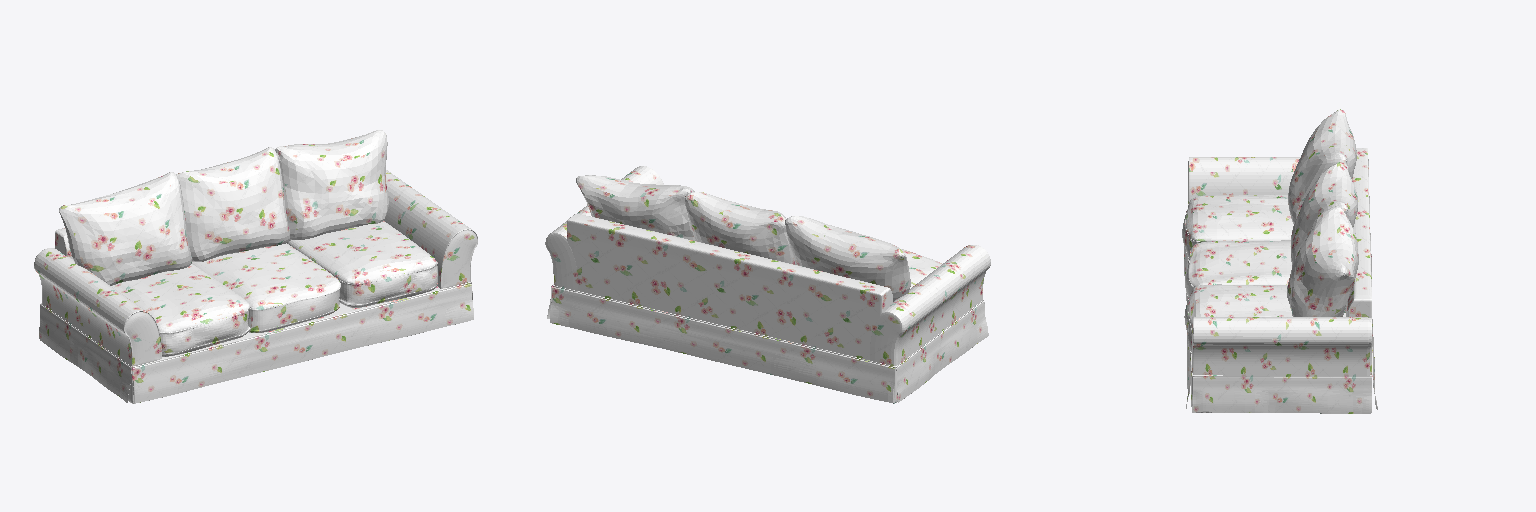
3 views of the same model, side by side, from view 1: azimuth 30°, elevation 25°; view 2: azimuth 150°, elevation 25°; view 3: azimuth 270°, elevation 25° (orthographic).
Visible parts, largest first — view 1: Box1065, Box1063, Box1064, Box1070, Box1069, Box1062, Box1059, Box1061, Box1058, Box1067, Box1057; view 2: Box1060, Box1068, Box1059, Box1063, Box1070, Box1064, Box1067, Box1058, Box1061, Box1057; view 3: Box1058, Box1066, Box1064, Box1061, Box1062, Box1059, Box1069, Box1063, Box1070, Box1060.
Part boxes in pixels (x1,y1,x2,y2): Box1065: (133,284,473,403); Box1063: (59,172,191,285); Box1064: (275,130,388,240); Box1070: (176,147,289,261); Box1069: (287,221,437,307); Box1062: (192,243,340,332); Box1059: (34,248,161,366); Box1061: (111,264,250,356); Box1058: (384,170,477,288); Box1067: (39,304,131,402); Box1057: (41,282,471,403); Box1060: (567,214,892,359); Box1068: (550,286,894,403); Box1059: (870,245,990,365); Box1063: (785,216,910,301); Box1070: (685,192,794,264); Box1064: (576,175,694,240); Box1067: (896,301,988,402); Box1058: (545,166,663,290); Box1061: (901,249,941,288); Box1057: (552,284,983,402); Box1058: (1192,317,1371,375); Box1066: (1192,377,1371,413); Box1064: (1287,206,1358,316); Box1061: (1182,195,1293,258); Box1062: (1186,240,1291,297); Box1059: (1188,157,1300,203); Box1069: (1184,284,1292,353); Box1063: (1288,109,1356,223); Box1070: (1291,162,1357,264); Box1060: (1345,148,1371,317).
Bounding box in the file's own units: 43.73 × 17.54 × 20.66.
1 materials, 1 textured.